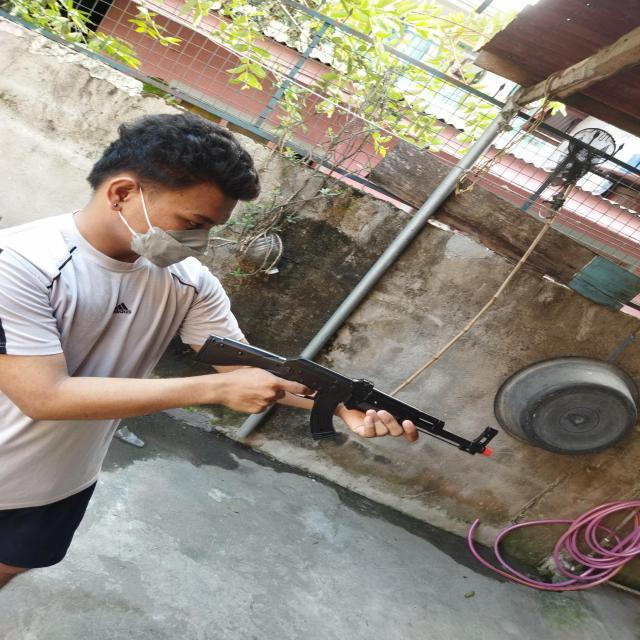rifle: (194, 334, 500, 456)
